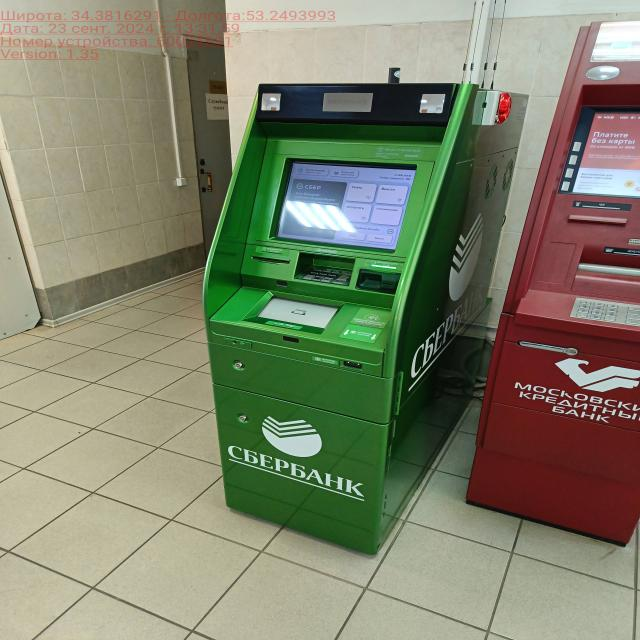bank: (192, 80, 529, 553)
